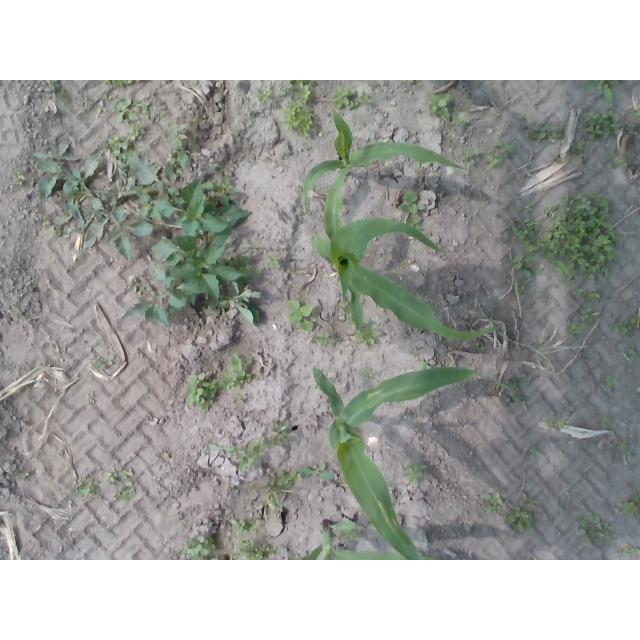Maize: (311, 364, 524, 561), (312, 161, 503, 340), (299, 106, 465, 210), (281, 518, 439, 560)
Weeds: (123, 173, 265, 327), (30, 135, 154, 263), (539, 192, 617, 284), (159, 116, 197, 180), (255, 471, 298, 524), (184, 373, 220, 412), (508, 217, 544, 255), (219, 354, 256, 390), (234, 437, 270, 472), (583, 109, 622, 141), (579, 512, 614, 544), (105, 466, 136, 502), (285, 100, 316, 136), (230, 538, 279, 560), (177, 536, 219, 561), (287, 298, 314, 331), (506, 505, 537, 532), (581, 80, 619, 102), (112, 94, 140, 122), (350, 319, 379, 346), (281, 80, 315, 101), (501, 377, 528, 403), (425, 91, 451, 118), (487, 142, 515, 167), (230, 512, 263, 533), (507, 252, 533, 278), (397, 190, 426, 213), (71, 475, 101, 497), (529, 122, 562, 142), (298, 465, 335, 482), (332, 86, 358, 110), (612, 313, 640, 335), (50, 80, 74, 105), (271, 421, 293, 447), (401, 463, 427, 484), (483, 493, 505, 515), (621, 491, 640, 515), (126, 123, 147, 141), (208, 442, 235, 456), (255, 86, 273, 105), (96, 354, 115, 371), (451, 111, 467, 131), (404, 215, 423, 231), (521, 491, 538, 508), (266, 252, 283, 269), (578, 308, 595, 325), (620, 543, 640, 557), (314, 331, 334, 345), (340, 530, 361, 543), (462, 148, 479, 164), (95, 95, 109, 114), (571, 138, 586, 155), (548, 417, 567, 430), (101, 80, 141, 86), (587, 289, 602, 304), (605, 374, 620, 389), (13, 170, 27, 186), (568, 321, 584, 335), (360, 368, 377, 381), (359, 91, 373, 106), (233, 391, 248, 404), (516, 278, 527, 295), (137, 101, 151, 114), (628, 347, 640, 362), (612, 156, 628, 167), (620, 440, 633, 453), (600, 414, 611, 429), (632, 101, 640, 119), (475, 341, 488, 351), (420, 360, 431, 370), (522, 204, 533, 214), (499, 231, 509, 241), (575, 288, 586, 297), (554, 153, 563, 163), (536, 347, 544, 358), (18, 471, 30, 478), (342, 311, 350, 321), (534, 263, 542, 273), (517, 110, 527, 118), (336, 301, 345, 309), (292, 269, 304, 275), (406, 80, 415, 82)
